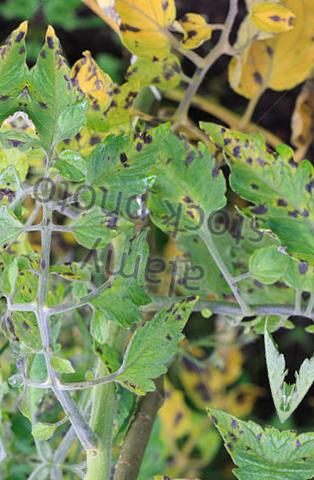Tomato Early blight leaf: (182, 119, 314, 226), (106, 280, 199, 407), (15, 18, 98, 153), (72, 113, 174, 221), (189, 400, 284, 480)
